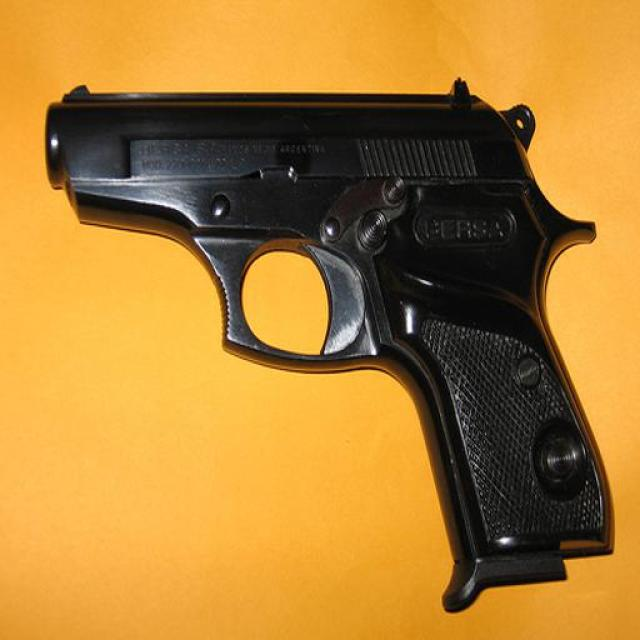pistol: (42, 76, 611, 614)
